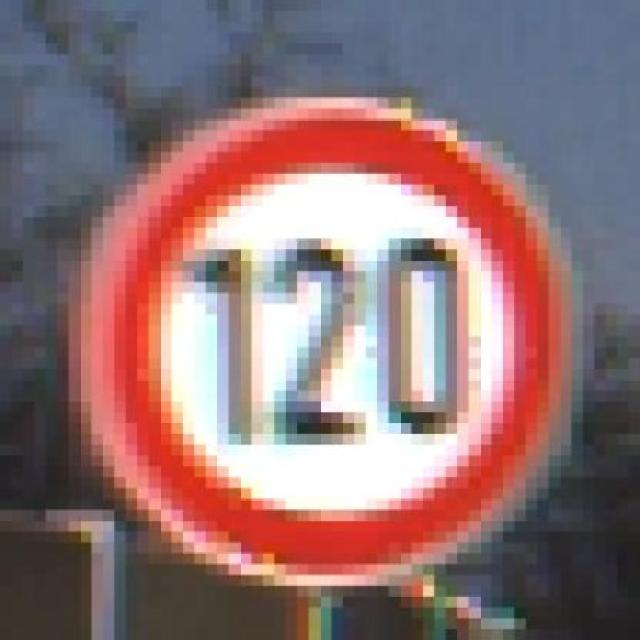forb_speed_over_120: (98, 110, 564, 579)
